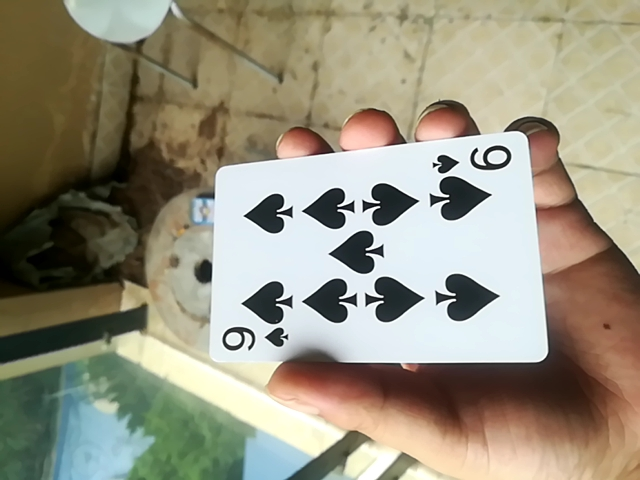ht 9: (201, 127, 550, 369)
